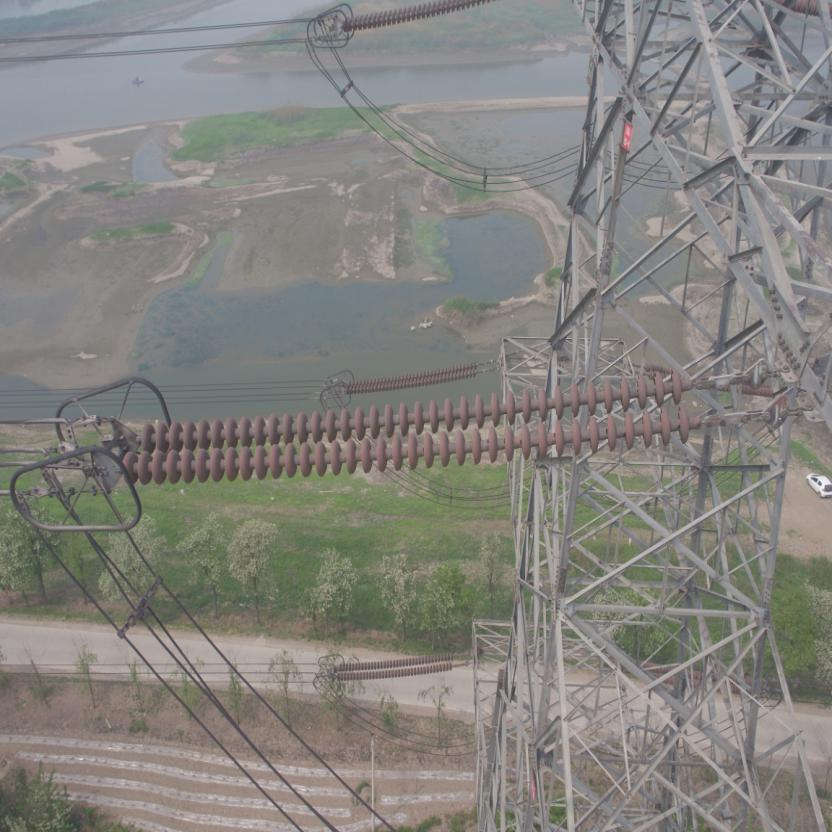insulator: (115, 364, 720, 487), (337, 0, 502, 33), (344, 359, 485, 396), (331, 648, 463, 682)
